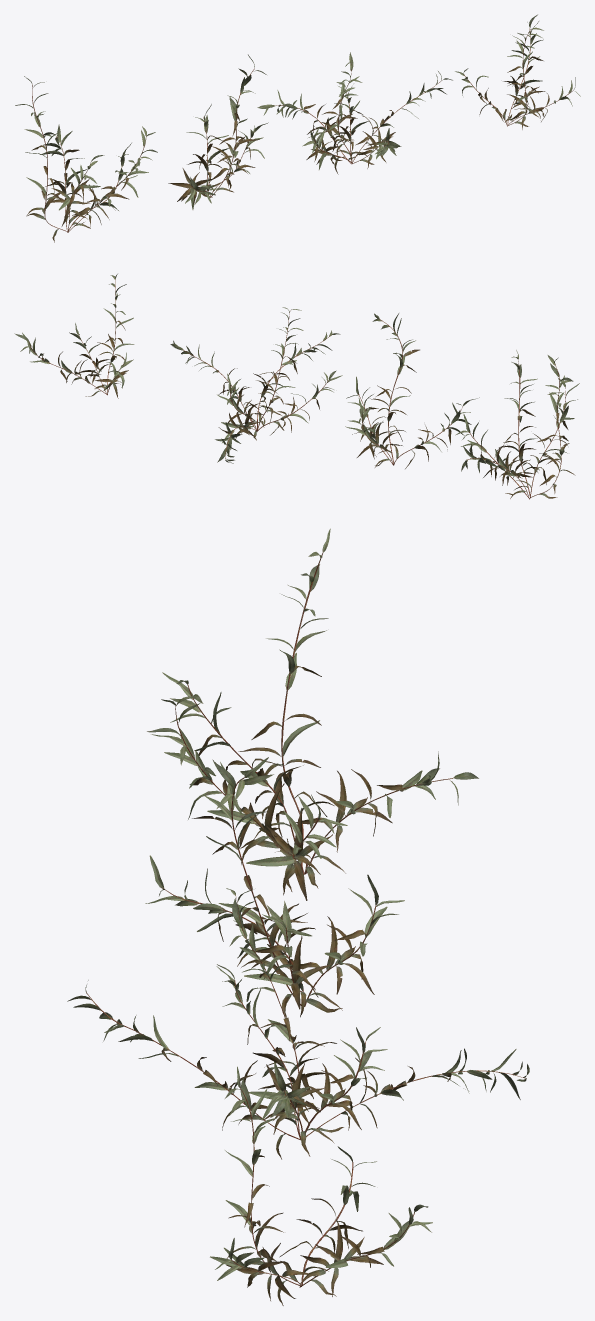
The model's file is shrub_02.glb.
3 views of the same model, one above another, from view 1: azimuth 30°, elevation 25°; view 2: azimuth 150°, elevation 25°; view 3: azimuth 270°, elevation 25° (orthographic). The views are drawn at different scales.
Visible parts, largest first — view 1: shrub_02_c, shrub_02_a, shrub_02_b, shrub_02_d; view 2: shrub_02_a, shrub_02_c, shrub_02_b, shrub_02_d; view 3: shrub_02_a, shrub_02_c, shrub_02_b, shrub_02_d.
Boxes of the visible parts, bbox=[...] form: shrub_02_c: bbox=[257, 52, 452, 174]; shrub_02_a: bbox=[15, 76, 157, 242]; shrub_02_b: bbox=[168, 54, 268, 209]; shrub_02_d: bbox=[455, 14, 580, 129]; shrub_02_a: bbox=[455, 350, 579, 499]; shrub_02_c: bbox=[170, 307, 342, 463]; shrub_02_b: bbox=[345, 313, 479, 468]; shrub_02_d: bbox=[14, 274, 134, 398]; shrub_02_a: bbox=[147, 528, 478, 900]; shrub_02_c: bbox=[67, 888, 529, 1159]; shrub_02_b: bbox=[145, 757, 404, 1018]; shrub_02_d: bbox=[210, 1066, 432, 1305].
Size of the model in its own units: 6.05 by 1.7 by 2.29.
1 material, 1 textured.
